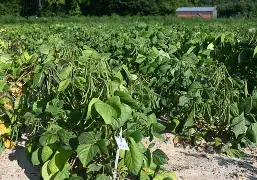crops: (0, 19, 254, 178), (0, 15, 157, 40), (206, 31, 256, 96), (55, 52, 114, 106), (165, 147, 254, 179), (218, 90, 257, 148), (121, 137, 170, 179), (171, 17, 257, 38), (175, 79, 206, 126), (135, 48, 175, 84), (0, 44, 34, 83), (126, 108, 163, 141), (130, 77, 161, 113), (0, 11, 26, 24), (109, 10, 121, 19)
